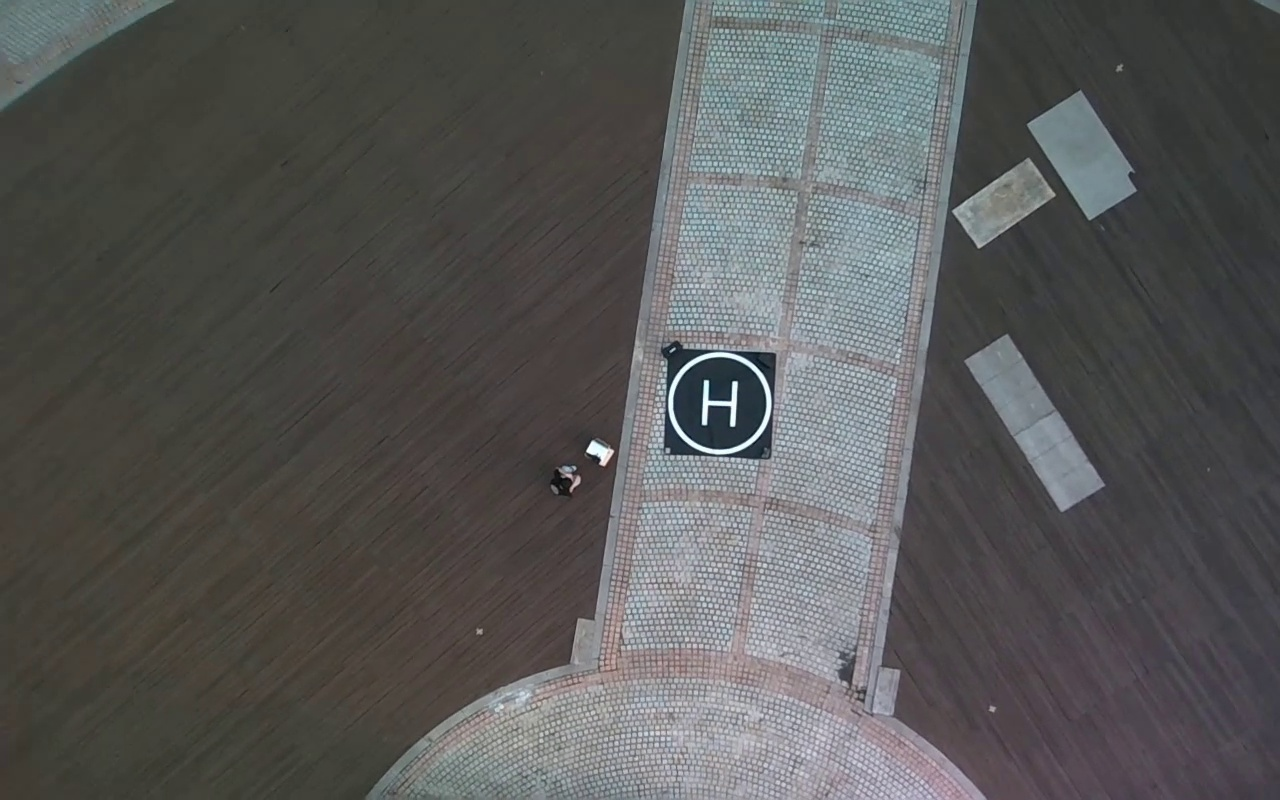H: (699, 378, 738, 427)
heliport: (668, 351, 772, 456)
